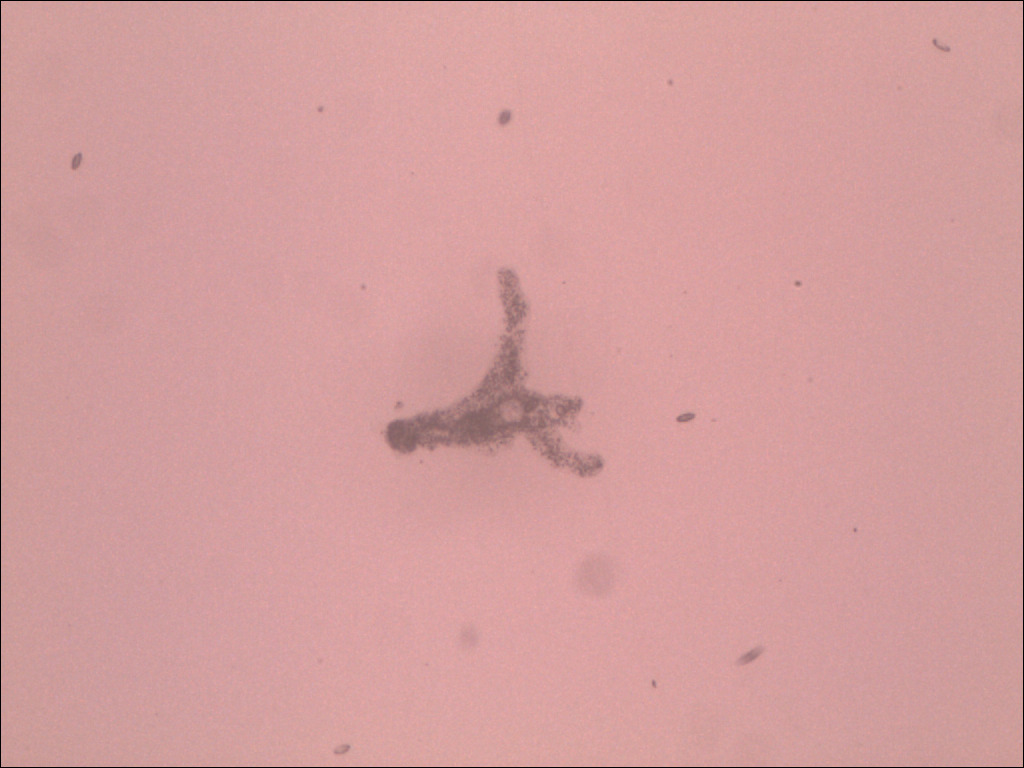amoeba: (375, 257, 623, 491)
